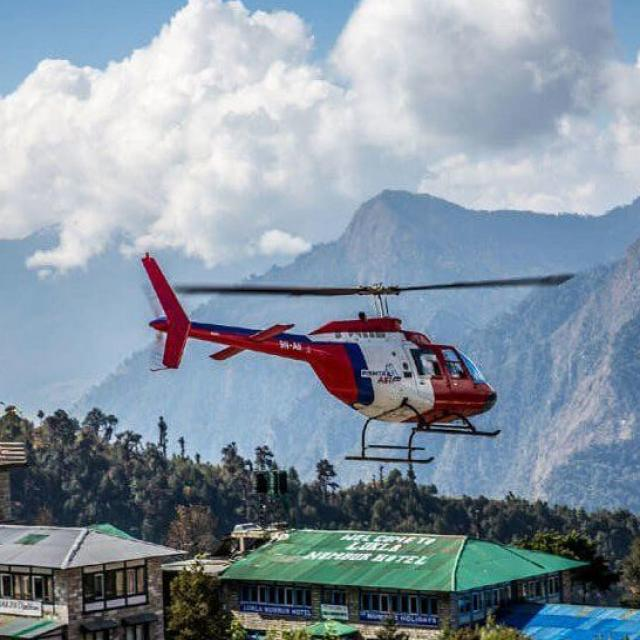helicopter: (129, 216, 584, 481)
